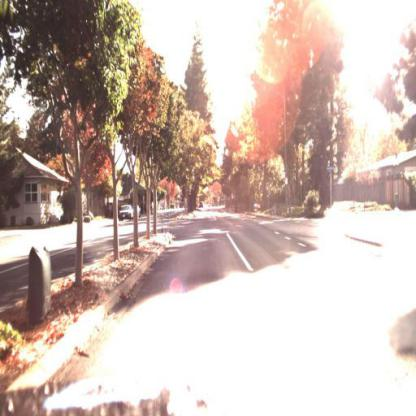car: (118, 197, 136, 228)
